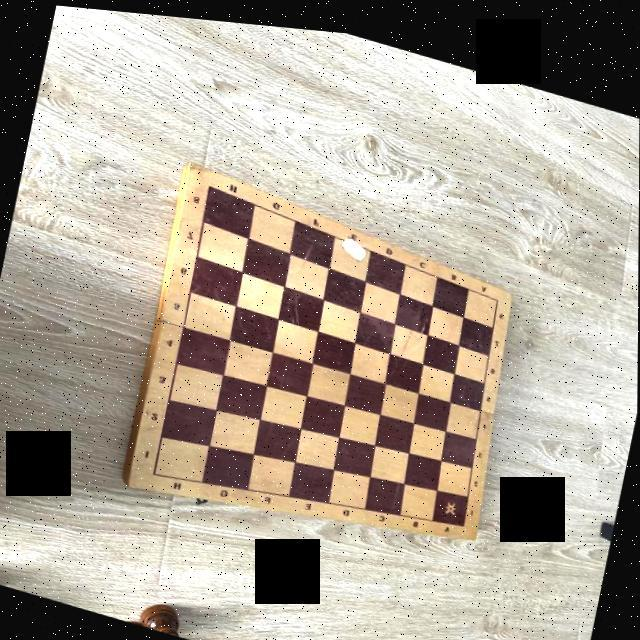chess-table-corners: (204, 176, 216, 188), (459, 511, 469, 519), (152, 465, 160, 473), (494, 286, 503, 293)
